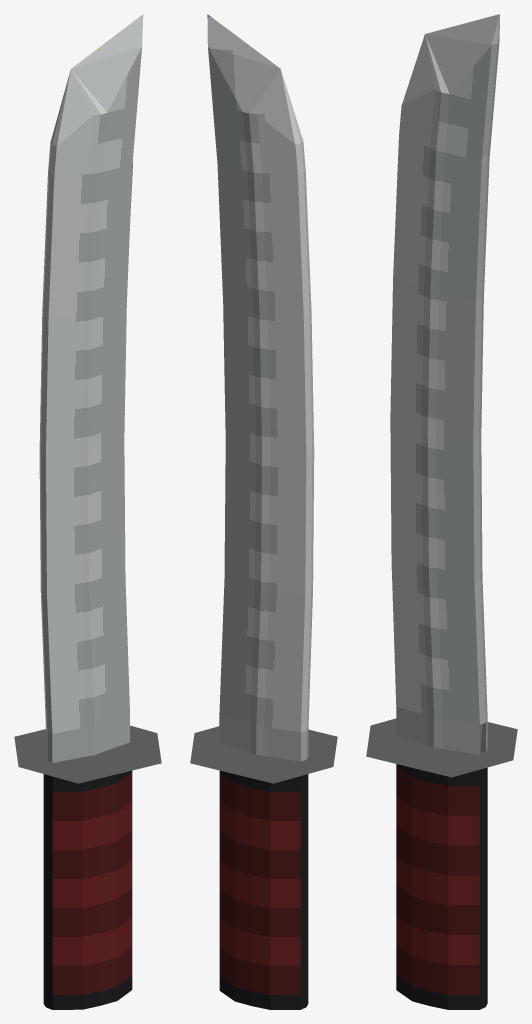
Rendered from BasicKatana.gltf.
The picture shows the model from 3 angles, left to right: view 1: azimuth 30°, elevation 25°; view 2: azimuth 150°, elevation 25°; view 3: azimuth 330°, elevation 25°; orthographic projection. The views are drawn at different scales.
Visible parts, largest first — view 1: lame, manche, garde; view 2: lame, manche, garde; view 3: lame, manche, garde.
Part boxes in pixels (left/top/right/bottom): lame: left=39, top=14, right=143, bottom=762; manche: left=43, top=754, right=132, bottom=1009; garde: left=14, top=725, right=161, bottom=783; lame: left=207, top=14, right=314, bottom=761; manche: left=219, top=757, right=308, bottom=1009; garde: left=190, top=726, right=337, bottom=783; lame: left=390, top=14, right=499, bottom=754; manche: left=396, top=736, right=487, bottom=1009; garde: left=366, top=718, right=517, bottom=777.
Size of the model in its own units: 0.3125 by 2.08 by 0.25.
3 materials, 3 textured.
